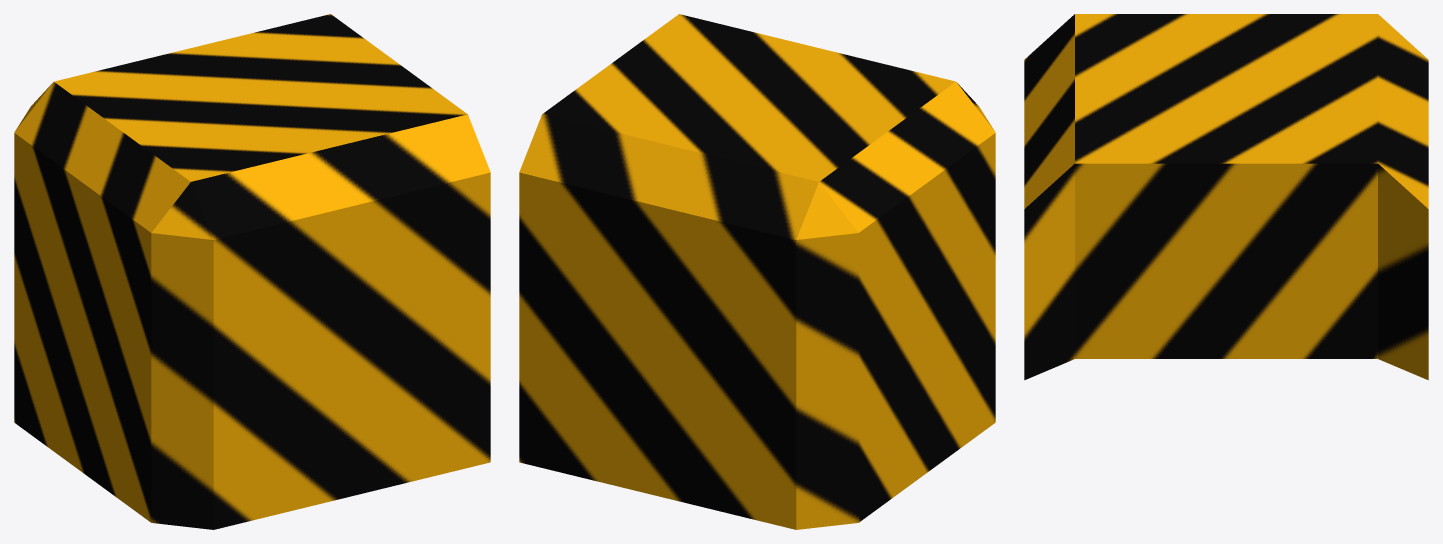
File: Bevel_10.fbx
3 views of the same model, side by side, from view 1: azimuth 30°, elevation 25°; view 2: azimuth 150°, elevation 25°; view 3: azimuth 270°, elevation 25° (orthographic). The views are drawn at different scales.
Visible parts, largest first — view 1: Bevel_10; view 2: Bevel_10; view 3: Bevel_10.
Part boxes in pixels (bbox=[...]): Bevel_10: bbox=[14, 14, 490, 529]; Bevel_10: bbox=[519, 14, 995, 529]; Bevel_10: bbox=[1024, 14, 1428, 380].
Size of the model in its own units: 10000 by 10000 by 10000.
